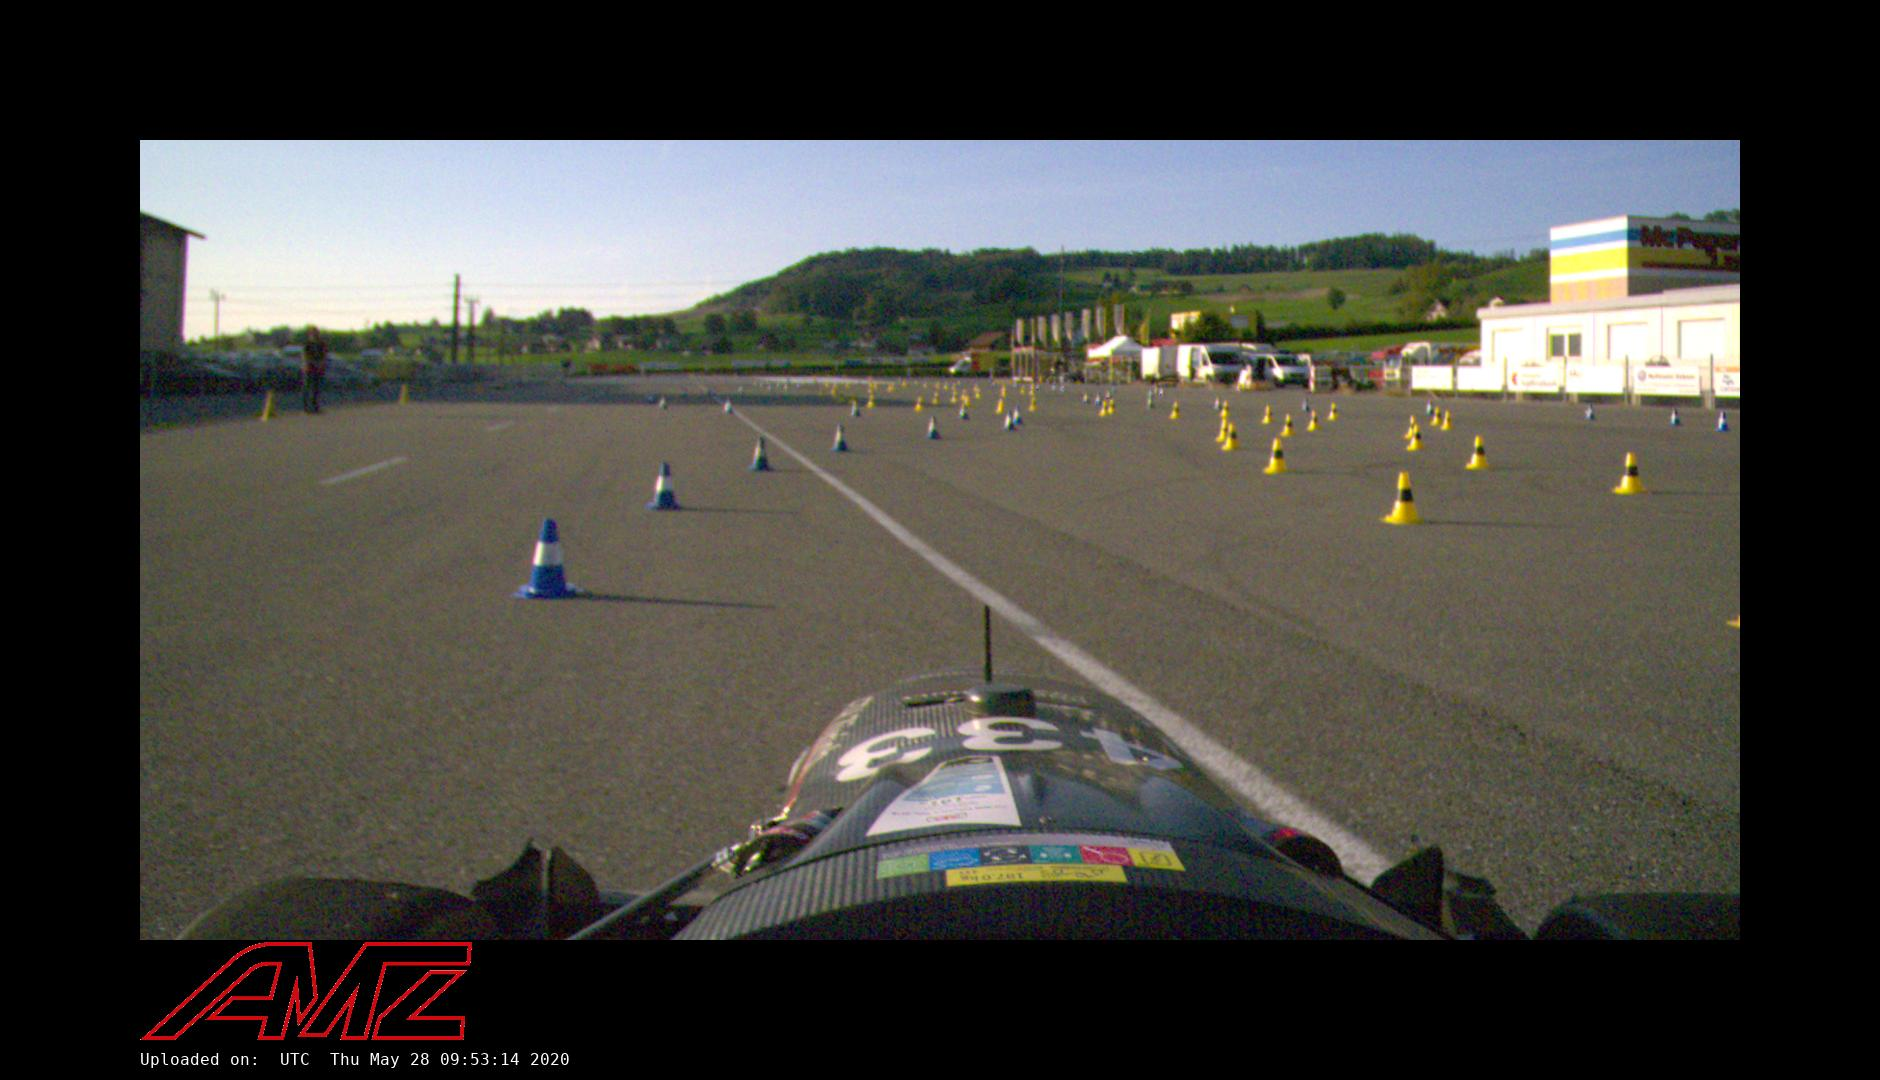blue_cone: (510, 518, 581, 599), (643, 460, 683, 512), (749, 435, 772, 472), (829, 424, 850, 452), (925, 415, 941, 441), (1712, 411, 1732, 433), (1668, 406, 1684, 428), (1002, 410, 1015, 431), (1586, 403, 1597, 421), (1014, 406, 1024, 425)
yellow_cone: (1379, 472, 1422, 524), (1611, 452, 1650, 493), (1262, 438, 1290, 475), (1464, 435, 1493, 469), (1220, 422, 1242, 452), (1406, 425, 1425, 450), (1280, 413, 1296, 438), (1215, 419, 1232, 442), (1404, 415, 1419, 439), (1325, 400, 1342, 422), (1305, 410, 1321, 431), (1262, 406, 1276, 425), (1441, 410, 1453, 431), (1431, 407, 1444, 426), (1170, 400, 1183, 419), (1220, 400, 1231, 417)
